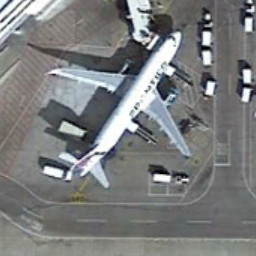Airplane: (30, 20, 200, 198)
